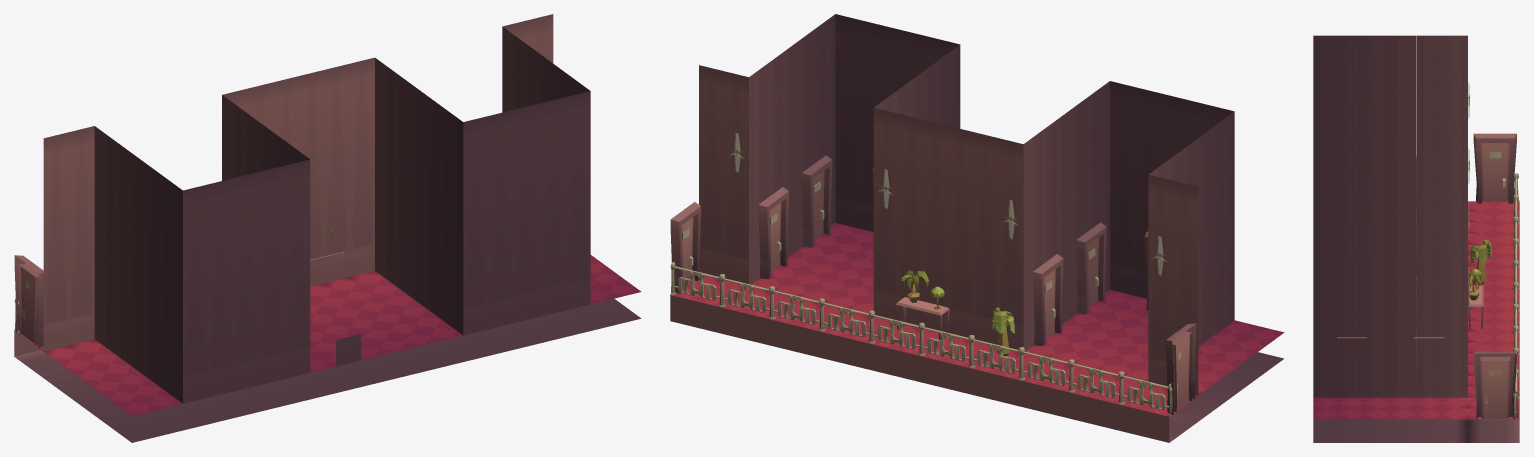
The model's file is SM_HotelRoom-B.fbx.
The picture shows the model from 3 angles, left to right: view 1: azimuth 30°, elevation 25°; view 2: azimuth 150°, elevation 25°; view 3: azimuth 270°, elevation 25°; orthographic projection. The views are drawn at different scales.
Parts seen in each view (by area): view 1: HotellRoom_B; view 2: HotellRoom_B; view 3: HotellRoom_B.
Boxes of the visible parts, x1,y1,x2,y2 form: HotellRoom_B: (14, 14, 641, 442); HotellRoom_B: (670, 14, 1284, 442); HotellRoom_B: (1313, 35, 1519, 442).
Size of the model in its own units: 800 by 2021 by 900.
